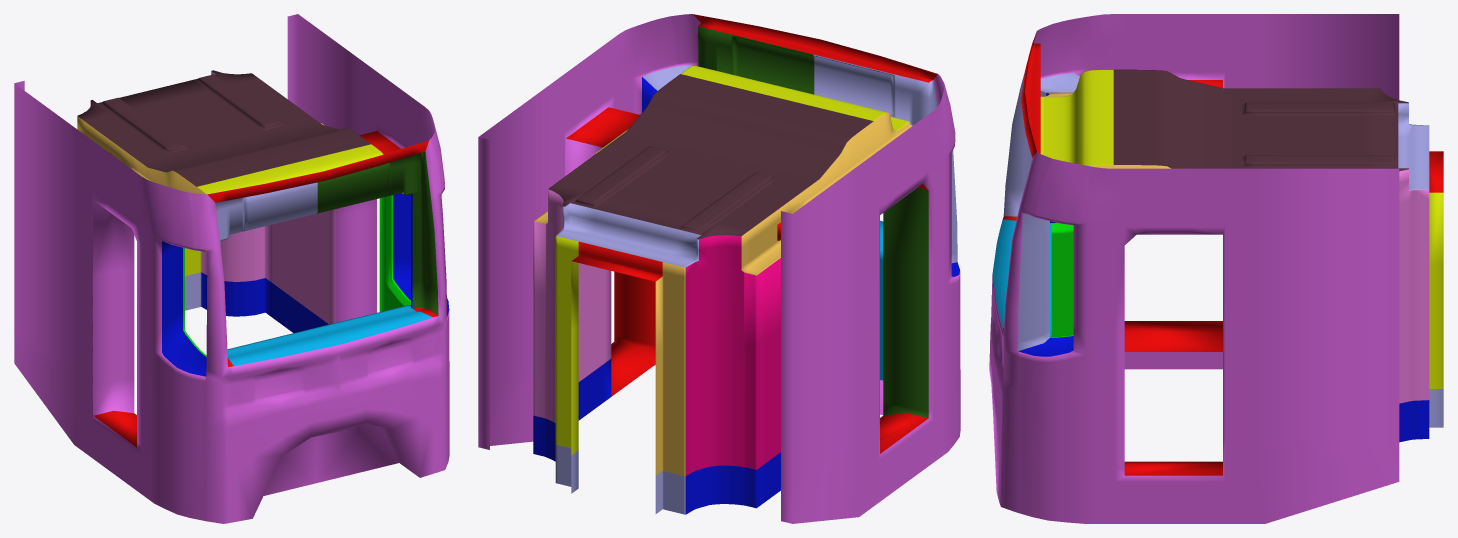
Rendered from SM_CabinShell.fbx.
3 views of the same model, side by side, from view 1: azimuth 30°, elevation 25°; view 2: azimuth 150°, elevation 25°; view 3: azimuth 270°, elevation 25° (orthographic). The views are drawn at different scales.
Parts seen in each view (by area): view 1: Cabin_low.009, Cabin_low.010, Cabin_low.003, Cabin_low.006, Cabin_low.011, Cabin_low.005, Cabin_low.008, Cabin_low.001, SM_CabinShell, Cabin_low.004, Cabin_low.007; view 2: Cabin_low.009, Cabin_low.010, Cabin_low.002, Cabin_low.011, Cabin_low.008, Cabin_low.001, Cabin_low.007, Cabin_low.006, SM_CabinShell, Cabin_low.003, Cabin_low.005; view 3: Cabin_low.009, Cabin_low.010, Cabin_low.008, SM_CabinShell, Cabin_low.001, Cabin_low.006, Cabin_low.004, Cabin_low.003, Cabin_low.005.
Part boxes in pixels (x1,y1,x2,y2): Cabin_low.009: [14, 14, 449, 523]; Cabin_low.010: [77, 70, 370, 186]; Cabin_low.003: [162, 193, 449, 376]; Cabin_low.006: [201, 209, 335, 324]; Cabin_low.011: [316, 151, 438, 315]; Cabin_low.005: [227, 305, 432, 365]; Cabin_low.008: [84, 71, 317, 310]; Cabin_low.001: [93, 131, 438, 447]; SM_CabinShell: [185, 144, 383, 275]; Cabin_low.004: [183, 195, 410, 356]; Cabin_low.007: [77, 116, 403, 194]; Cabin_low.009: [478, 14, 960, 523]; Cabin_low.010: [548, 74, 873, 239]; Cabin_low.002: [685, 235, 780, 475]; Cabin_low.011: [698, 26, 928, 418]; Cabin_low.008: [555, 54, 957, 514]; Cabin_low.001: [566, 14, 937, 453]; Cabin_low.007: [533, 113, 911, 476]; Cabin_low.006: [533, 189, 611, 422]; SM_CabinShell: [555, 65, 909, 455]; Cabin_low.003: [533, 77, 959, 514]; Cabin_low.005: [880, 220, 883, 380]; Cabin_low.009: [989, 14, 1399, 523]; Cabin_low.010: [1113, 69, 1408, 171]; Cabin_low.008: [1003, 73, 1443, 427]; SM_CabinShell: [1040, 69, 1443, 388]; Cabin_low.001: [1003, 33, 1443, 475]; Cabin_low.006: [1399, 169, 1429, 403]; Cabin_low.004: [1050, 222, 1073, 337]; Cabin_low.003: [1018, 93, 1429, 442]; Cabin_low.005: [992, 219, 1051, 336].
Bounding box in the file's own units: 2.83 × 3.03 × 3.51.
